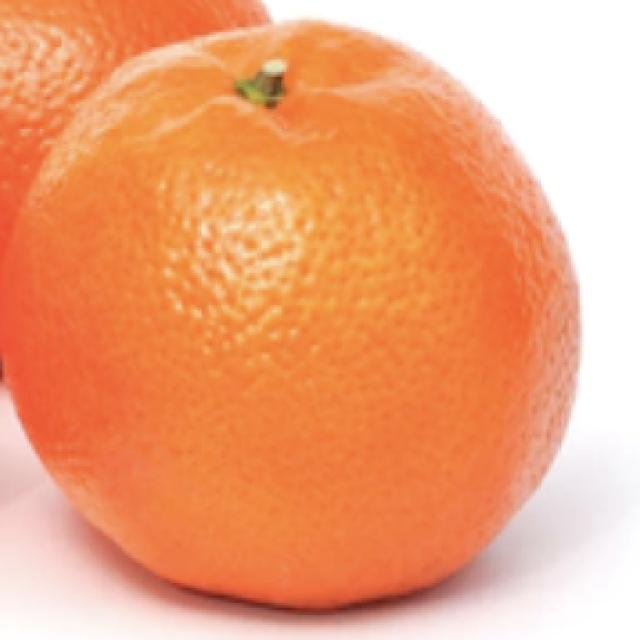orange: (3, 23, 579, 607), (0, 0, 268, 267)
